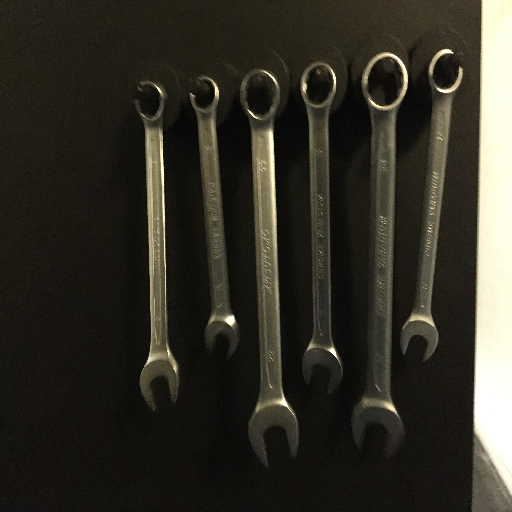bottom: (349, 394, 407, 464), (246, 401, 301, 469), (300, 341, 345, 399), (138, 353, 180, 414), (398, 311, 441, 367), (203, 314, 242, 360)
top: (361, 51, 409, 115), (238, 67, 281, 125), (427, 49, 466, 101), (300, 61, 339, 112), (133, 80, 167, 124), (188, 75, 221, 115)
